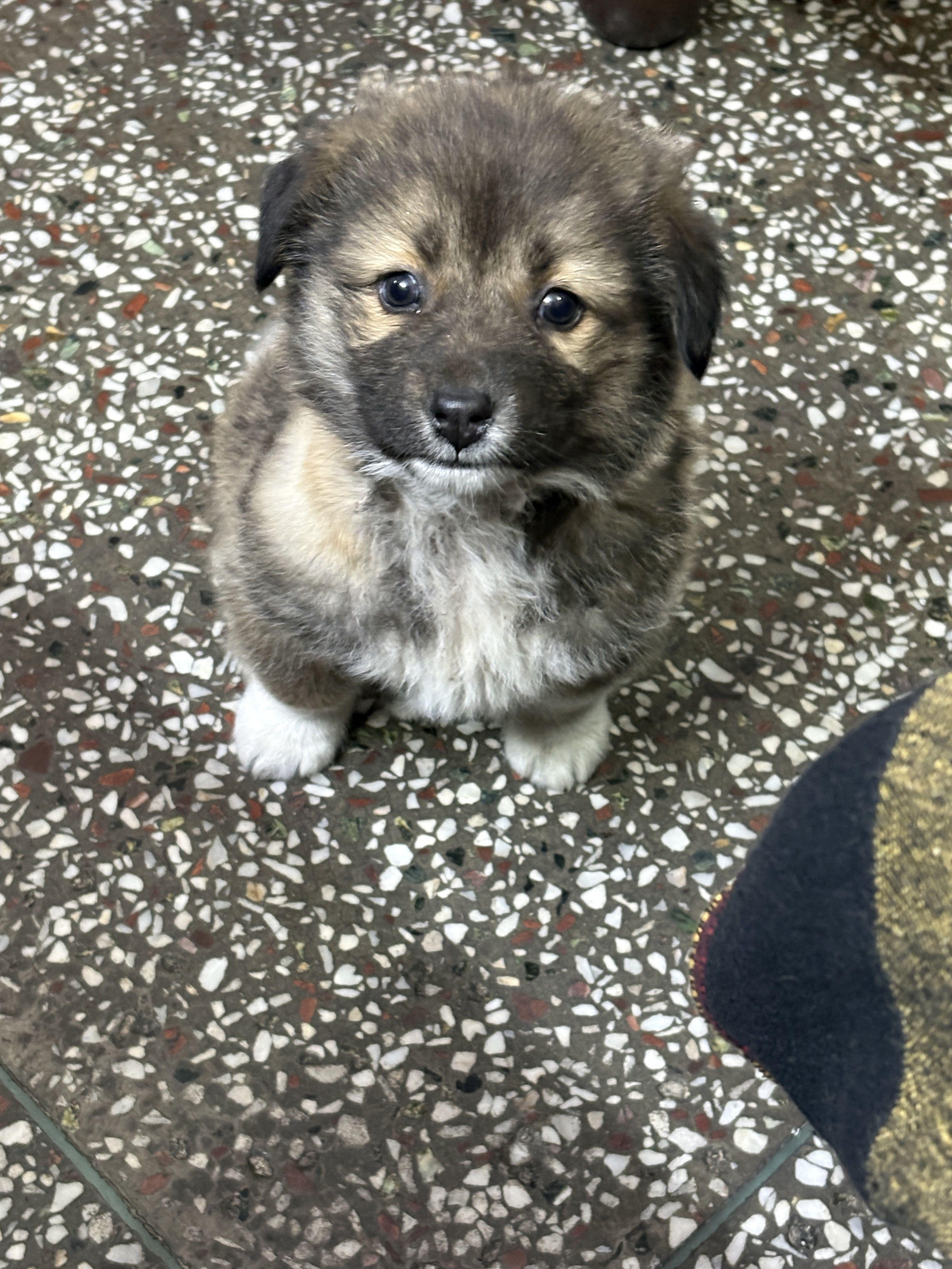puppy-dog: (197, 62, 733, 801)
